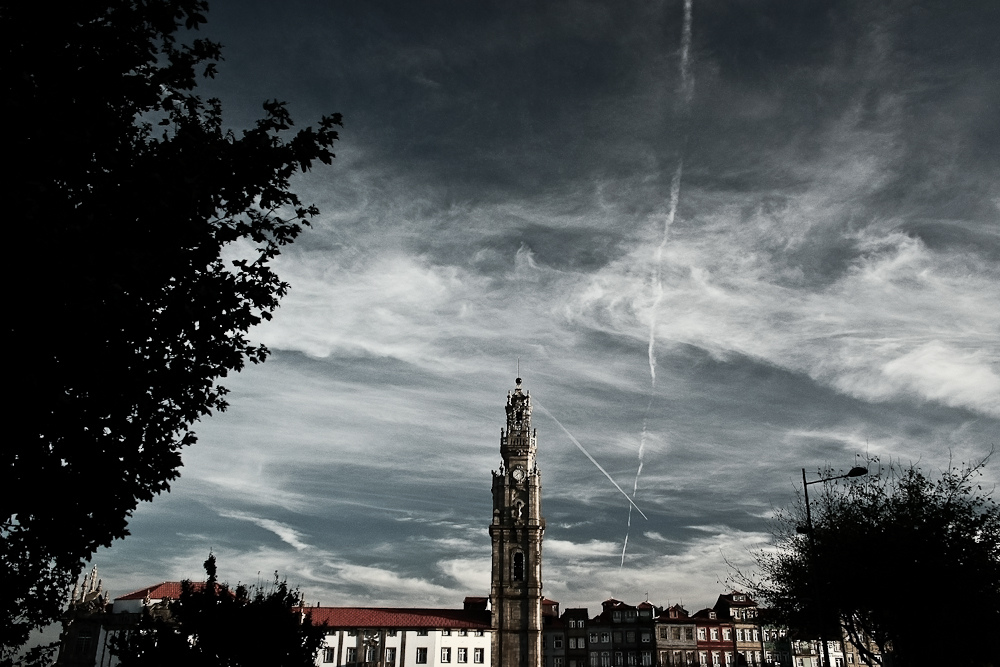clerigos: (484, 358, 546, 666)
